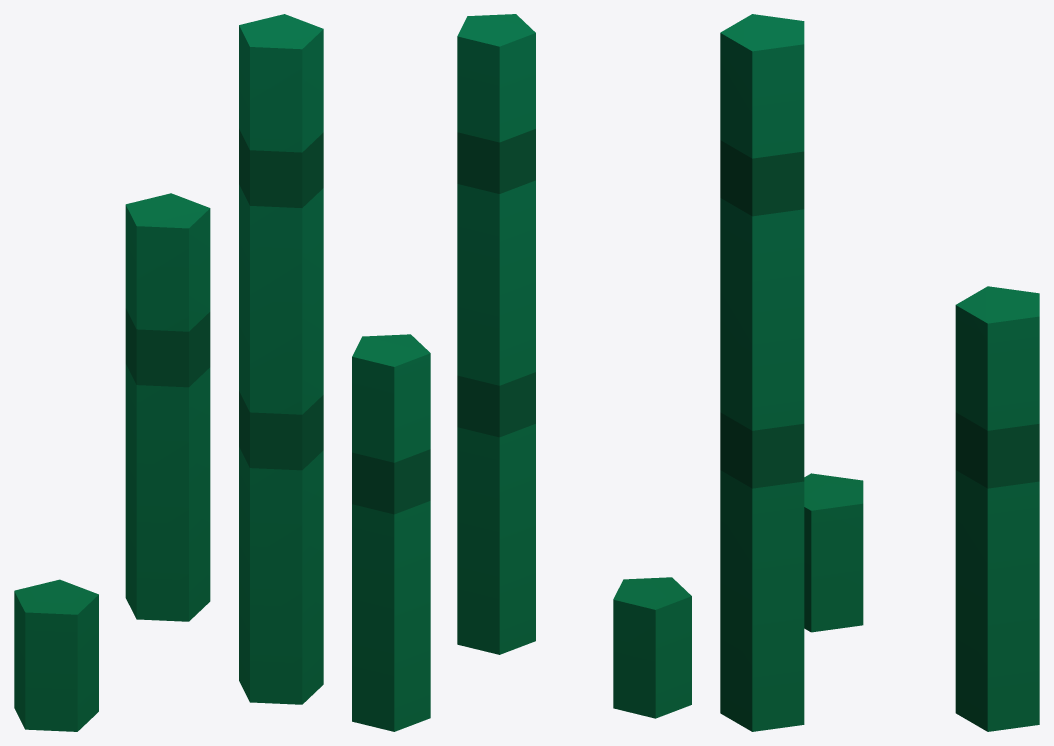
File: Bamboo4.fbx
The picture shows the model from 3 angles, left to right: view 1: azimuth 30°, elevation 25°; view 2: azimuth 150°, elevation 25°; view 3: azimuth 270°, elevation 25°; orthographic projection. The views are drawn at different scales.
Parts seen in each view (by area): view 1: Cube.038; view 2: Cube.038; view 3: Cube.038.
Part boxes in pixels (x1,y1,x2,y2): Cube.038: (14,14,323,731); Cube.038: (352,14,691,731); Cube.038: (720,14,1039,731).
Size of the model in its own units: 71.59 by 166 by 70.63.
